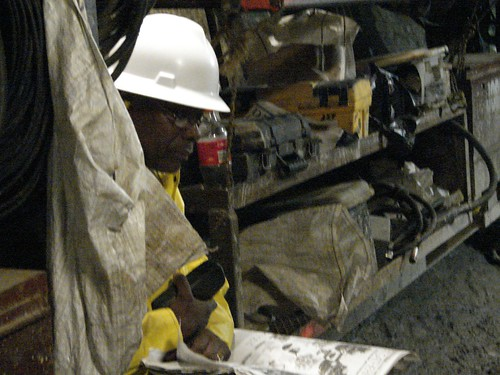person hardhat: (88, 15, 259, 375)
